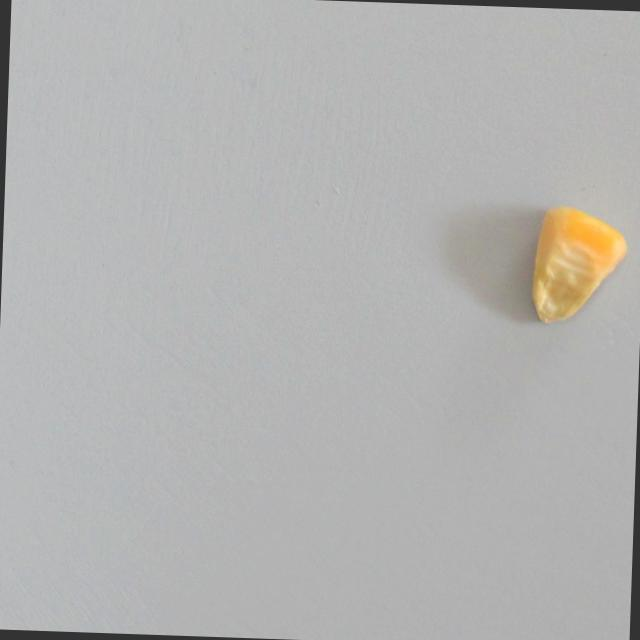entero: (524, 197, 632, 332)
